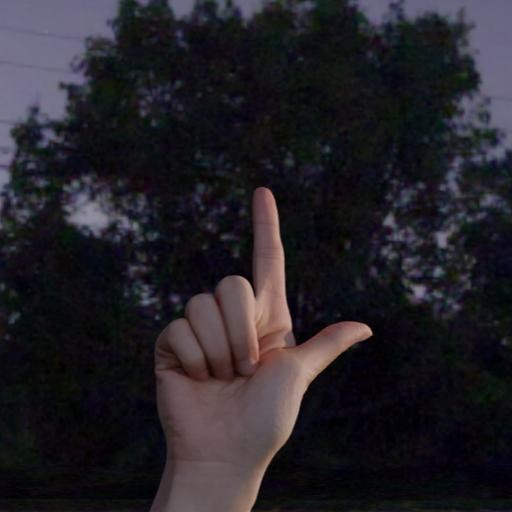L: (144, 181, 378, 512)
